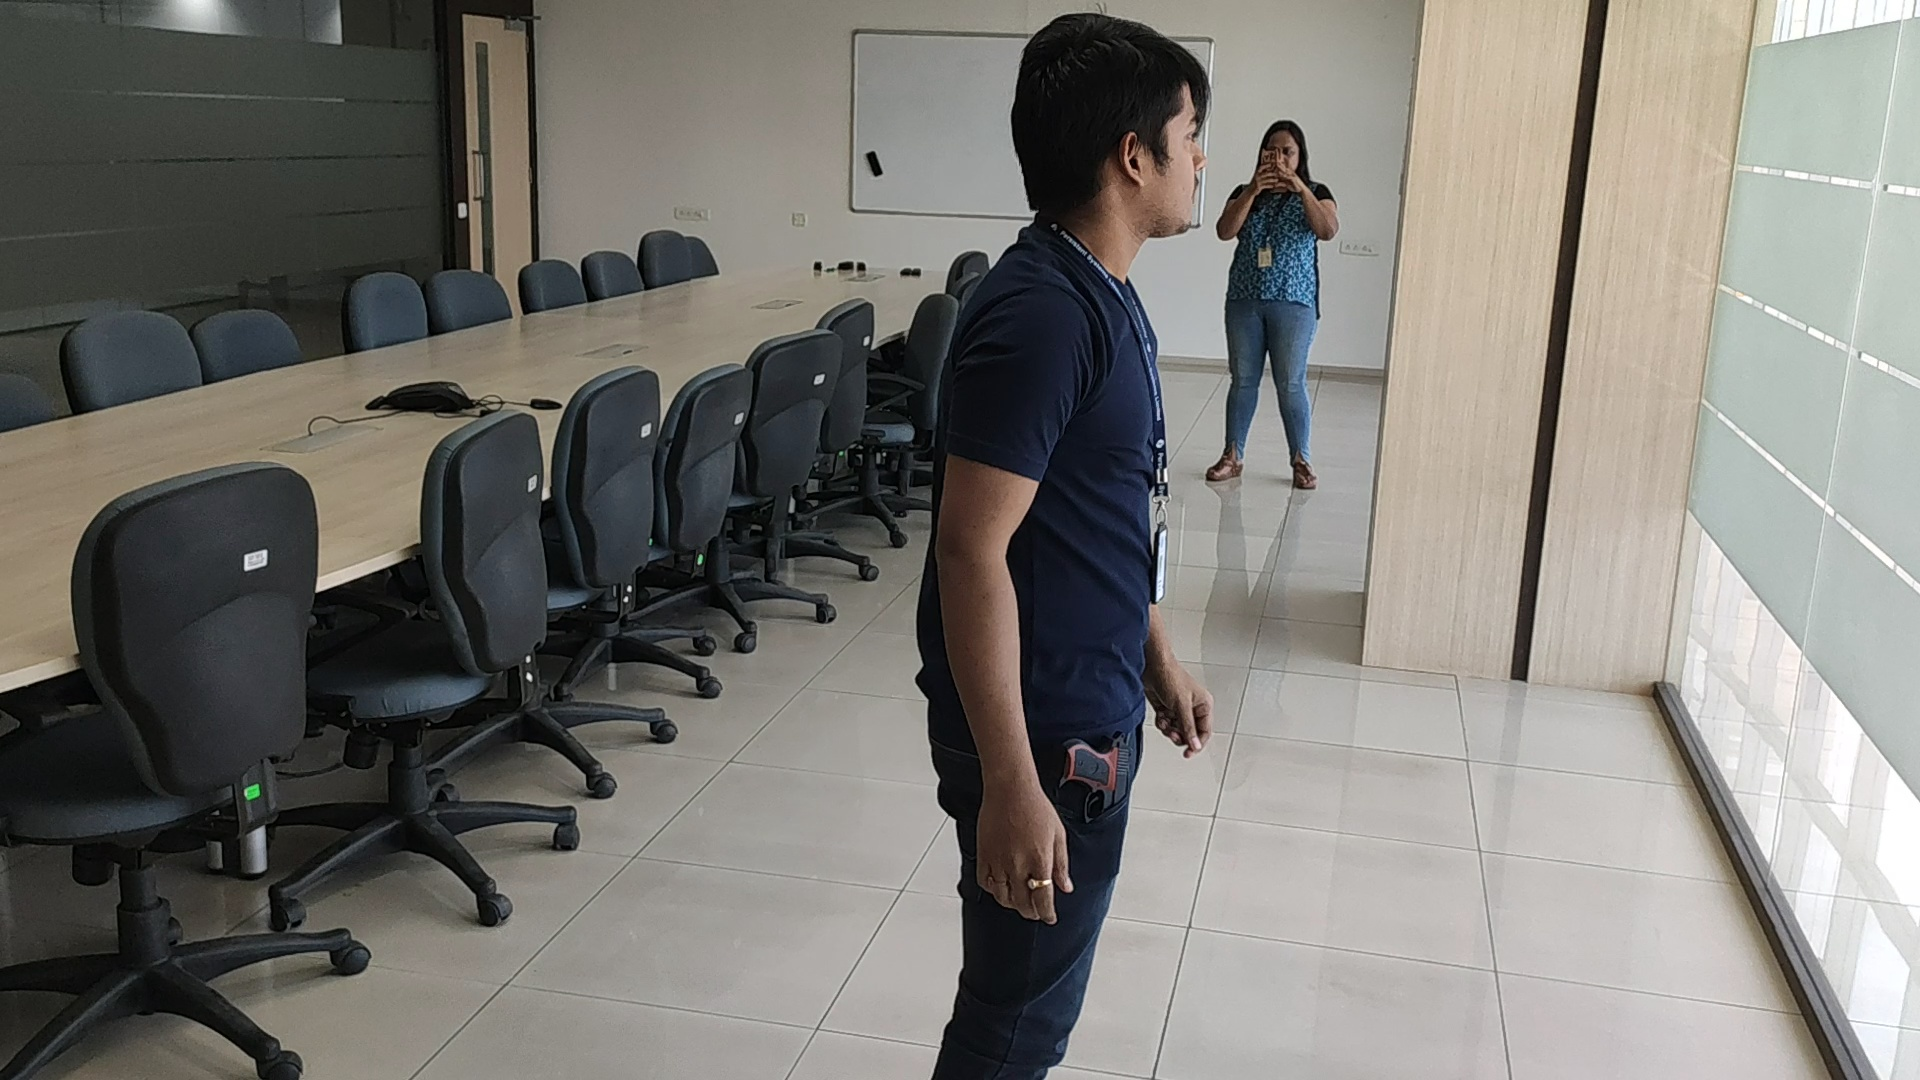gun: (1062, 732, 1133, 823)
